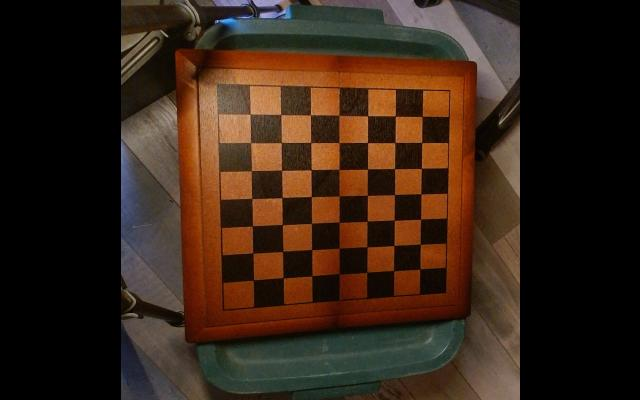corner: (208, 80, 225, 92), (441, 86, 455, 100), (216, 302, 228, 316), (438, 287, 449, 299)
